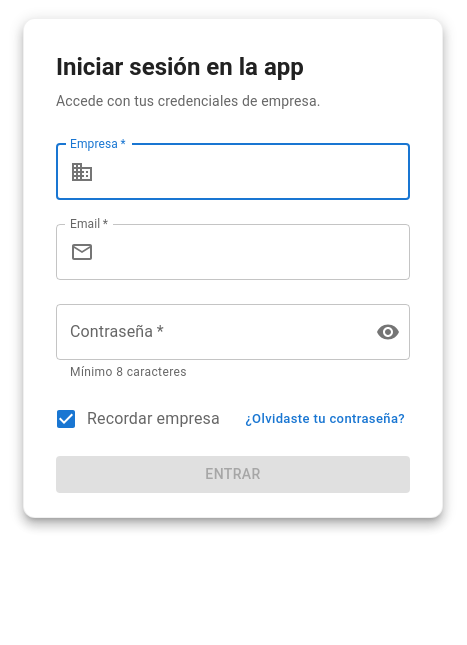
LoginForm Component › Form Submission - Error Handling › should display error message when tenant not found (404)
In the field labelled "Empresa *": (256, 172) x1=102 y1=144 x2=410 y2=200, type "nonexistent-company"
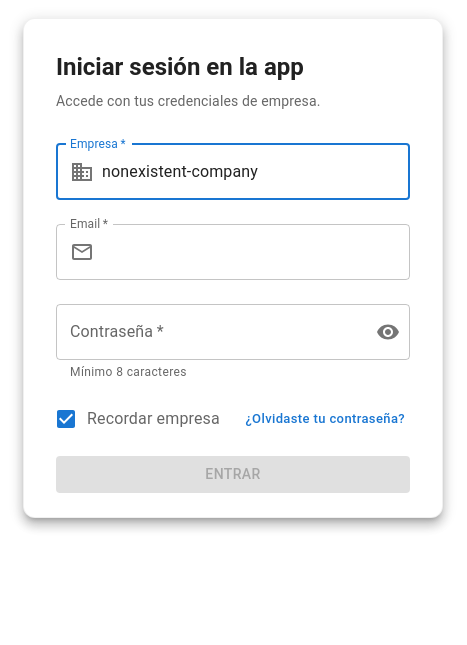
In the field labelled "Email *": (256, 252) x1=102 y1=224 x2=410 y2=280, type "user@example.com"
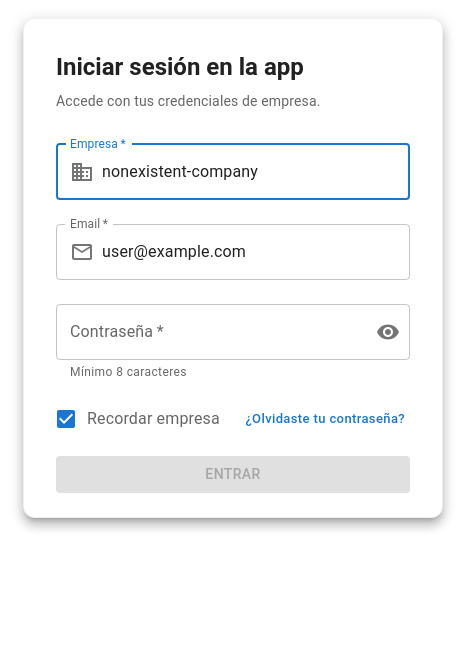
In the password field labelled "Contraseña *": (208, 332) x1=56 y1=304 x2=360 y2=360, type "password123"
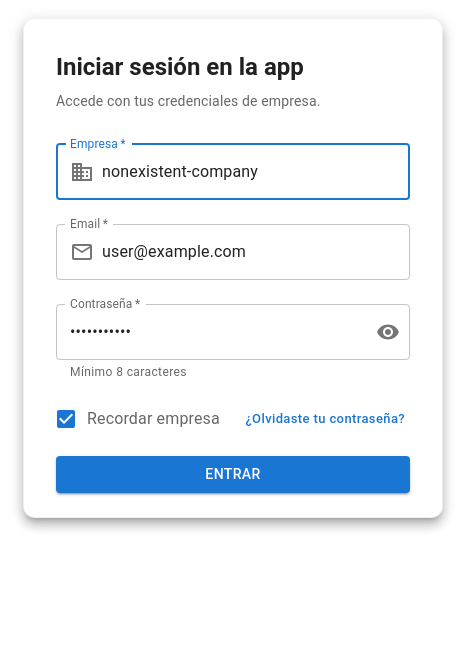
Click the button "Entrar": click(233, 475) x1=56 y1=456 x2=410 y2=493
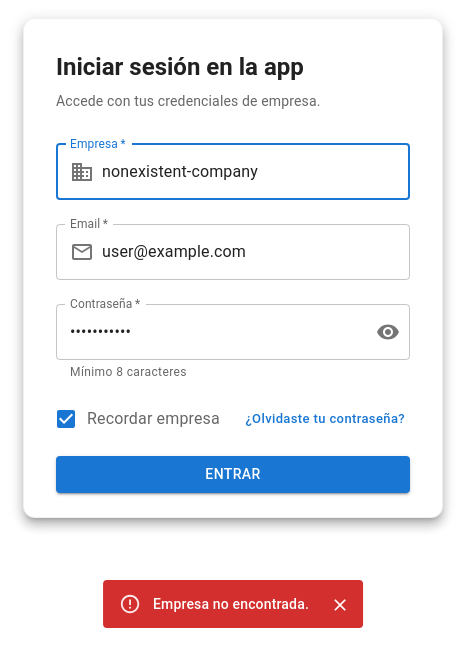
Expected: the text "Empresa no encontrada." is shown, x1=153 y1=596 x2=309 y2=612
